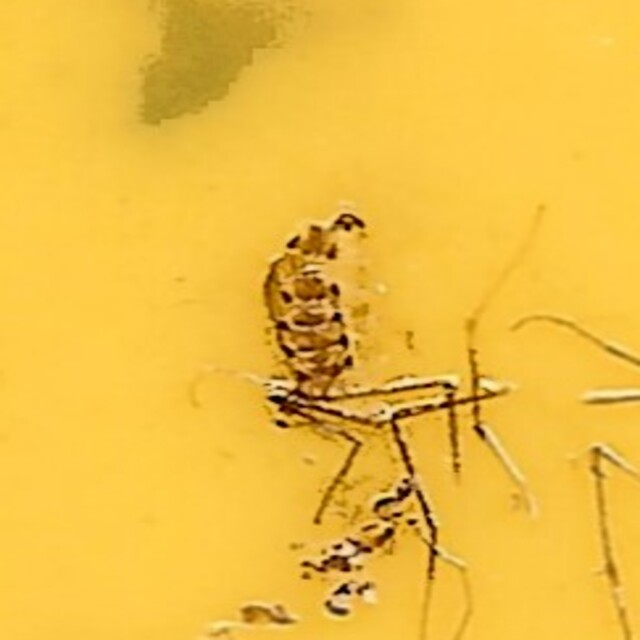Nematocera: (263, 202, 377, 438)
